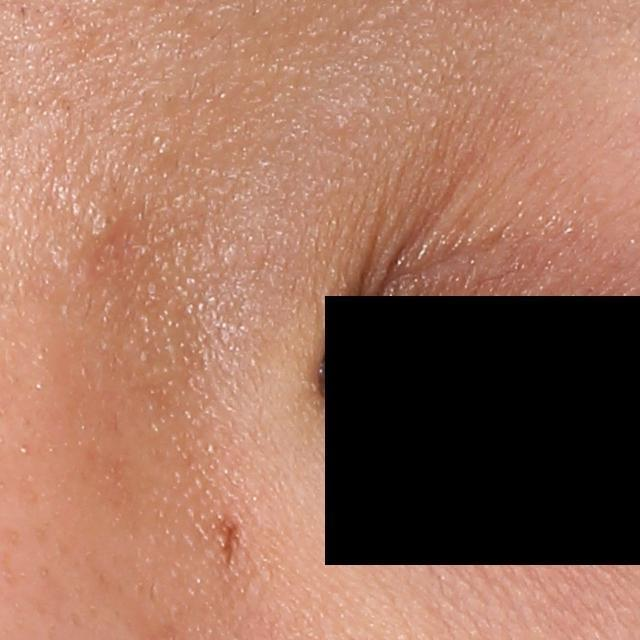comedo: (86, 207, 122, 245)
nevus: (215, 511, 244, 572)
